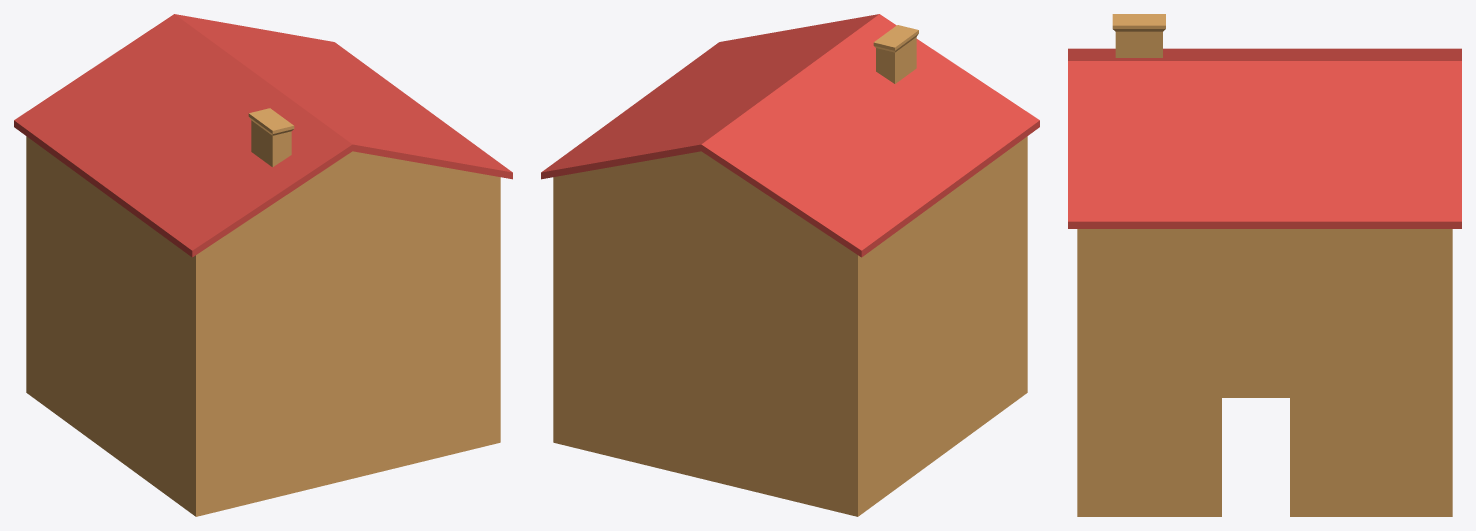
The model's file is mesh_KitchenWalls.fbx.
3 renders of one model, left to right at view 1: azimuth 30°, elevation 25°; view 2: azimuth 150°, elevation 25°; view 3: azimuth 270°, elevation 25°, orthographic. The views are drawn at different scales.
Parts seen in each view (by area): view 1: KitchenWalls; view 2: KitchenWalls; view 3: KitchenWalls.
Part boxes in pixels (x1,y1,x2,y2): KitchenWalls: (14,14,512,516); KitchenWalls: (541,14,1039,516); KitchenWalls: (1068,14,1461,516).
Size of the model in its own units: 492 by 516 by 474.
